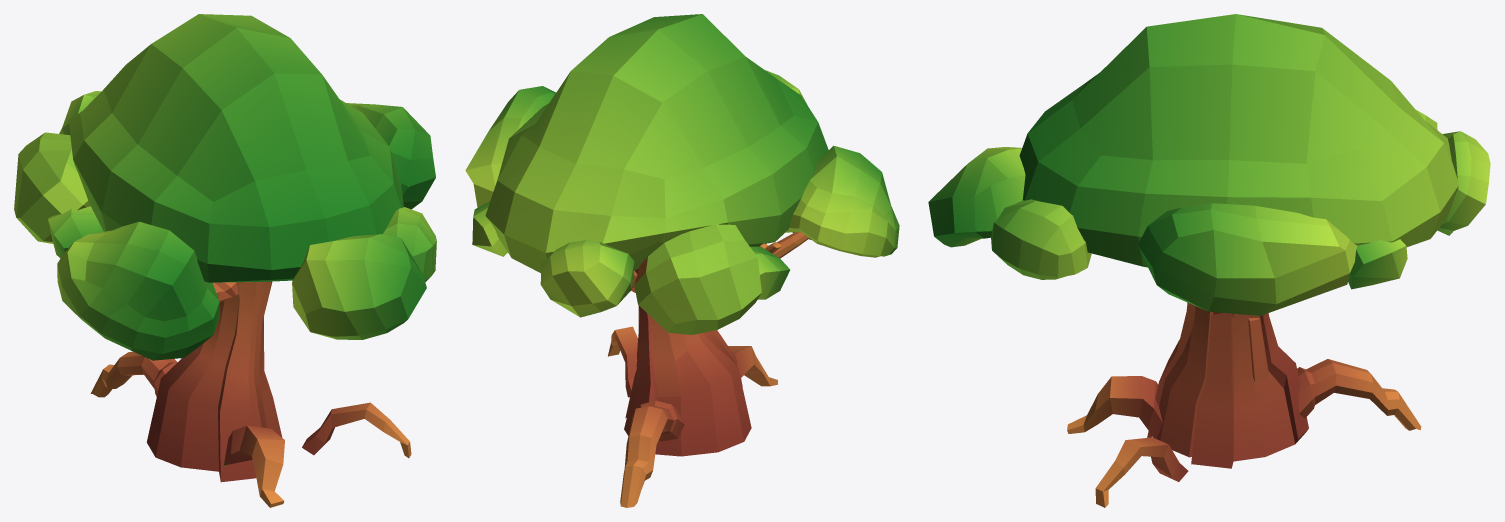
File: BranchyTree.fbx
3 views of the same model, side by side, from view 1: azimuth 30°, elevation 25°; view 2: azimuth 150°, elevation 25°; view 3: azimuth 270°, elevation 25° (orthographic). The views are drawn at different scales.
Parts seen in each view (by area): view 1: BranchyTree; view 2: BranchyTree; view 3: BranchyTree.
Part boxes in pixels (<box>): BranchyTree: <box>14,14,436,507</box>; BranchyTree: <box>465,14,899,507</box>; BranchyTree: <box>928,14,1490,507</box>.
Size of the model in its own units: 7.42 by 7.64 by 8.82.
Materials: 1 (1 with a texture image).
